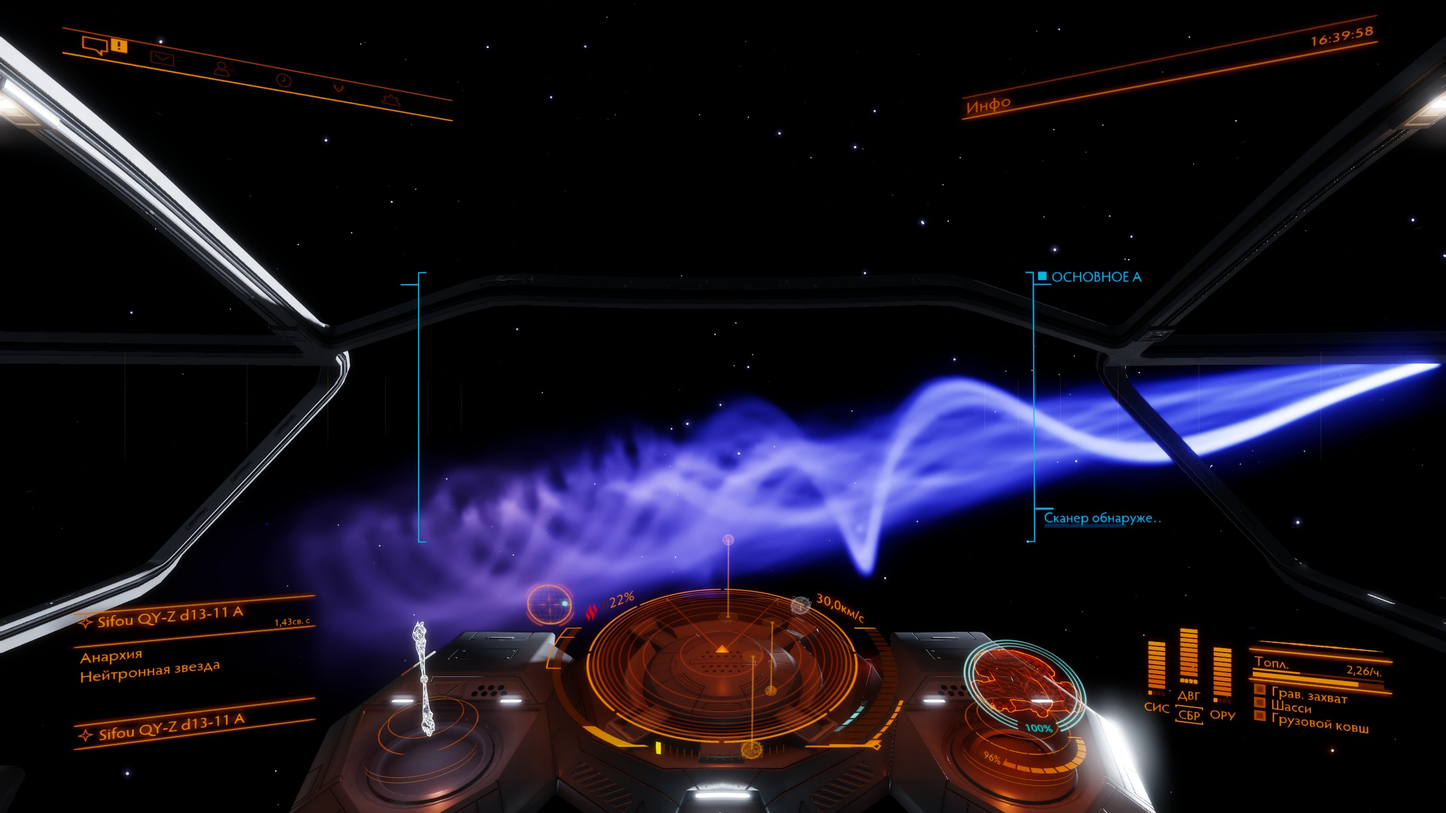jetcone: (230, 341, 1443, 623)
